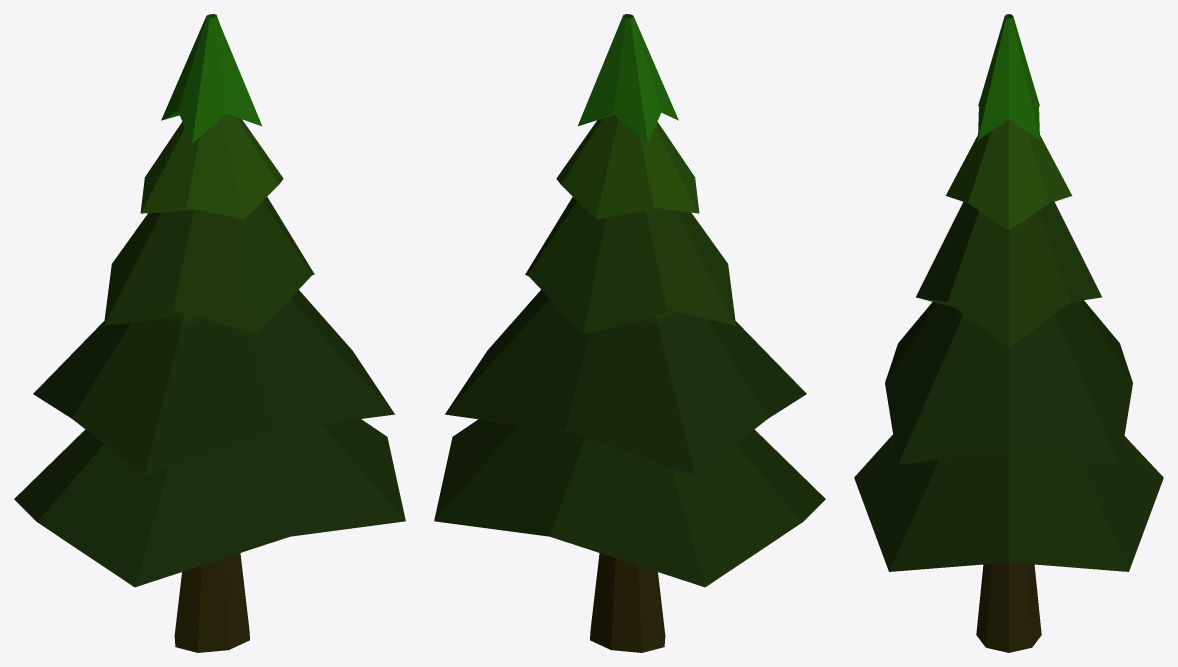
The model's file is Tree_LowPoly.fbx.
3 views of the same model, side by side, from view 1: azimuth 30°, elevation 25°; view 2: azimuth 150°, elevation 25°; view 3: azimuth 270°, elevation 25° (orthographic).
Visible parts, largest first — view 1: Arvore; view 2: Arvore; view 3: Arvore.
Part boxes in pixels (x1,y1,x2,y2): Arvore: [14, 14, 405, 652]; Arvore: [434, 14, 825, 652]; Arvore: [854, 14, 1163, 652].
Bounding box in the file's own units: 259 × 440 × 200.
